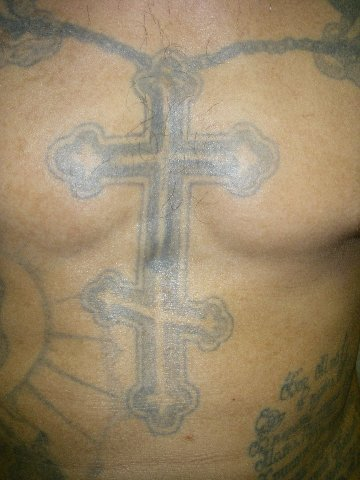tatu9_krest: (38, 21, 286, 444)
